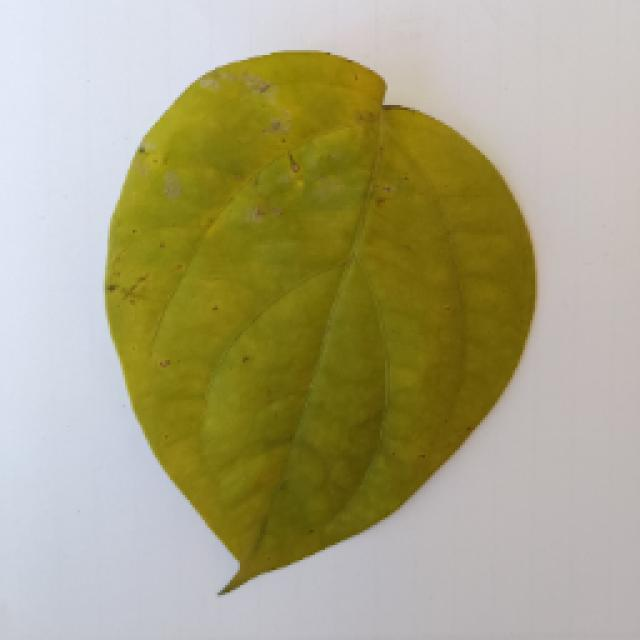slow-decline: (72, 58, 590, 600)
